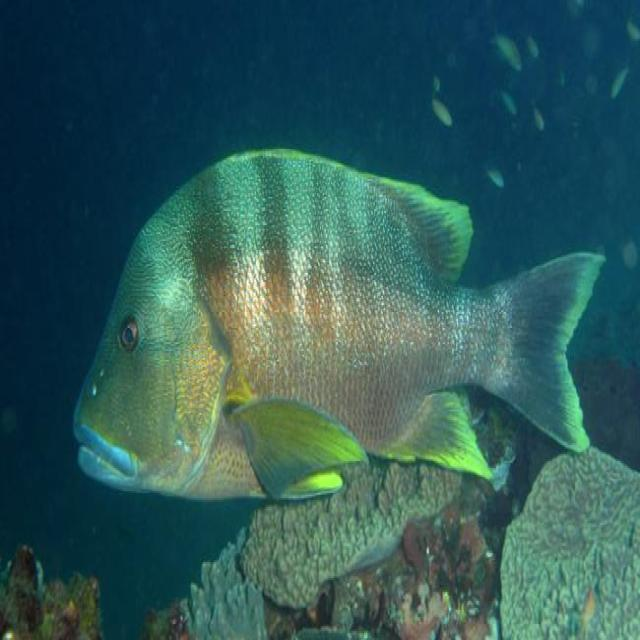ikan: (71, 144, 605, 504)
